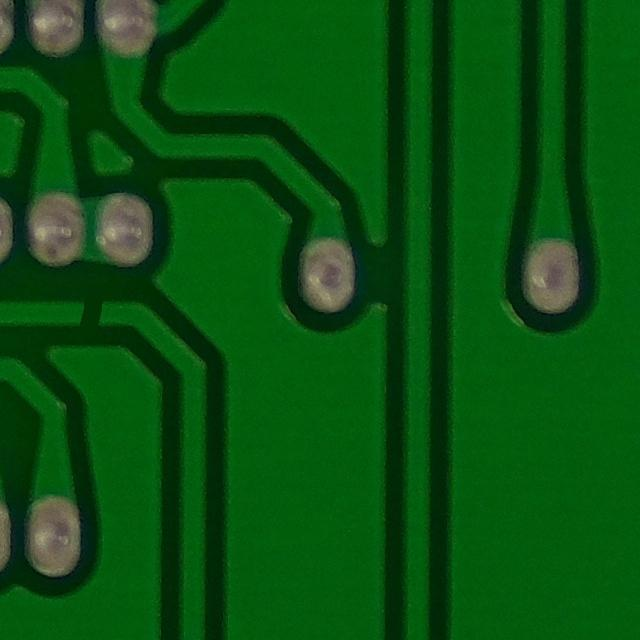open_circuit: (67, 284, 112, 332)
